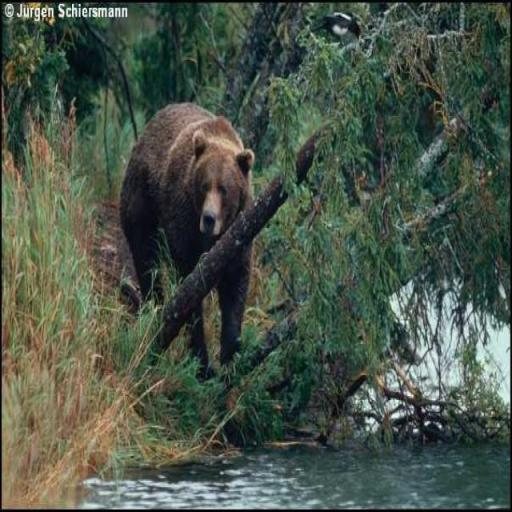Bear: (118, 99, 256, 380)
